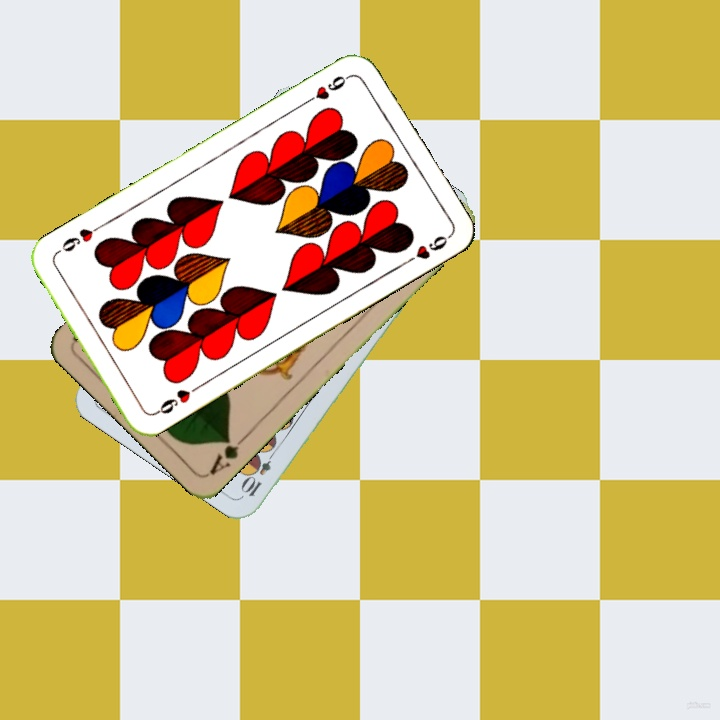E10: (238, 444, 279, 500)
GA: (205, 430, 251, 478)
H9: (149, 381, 203, 419), (300, 70, 354, 107)
